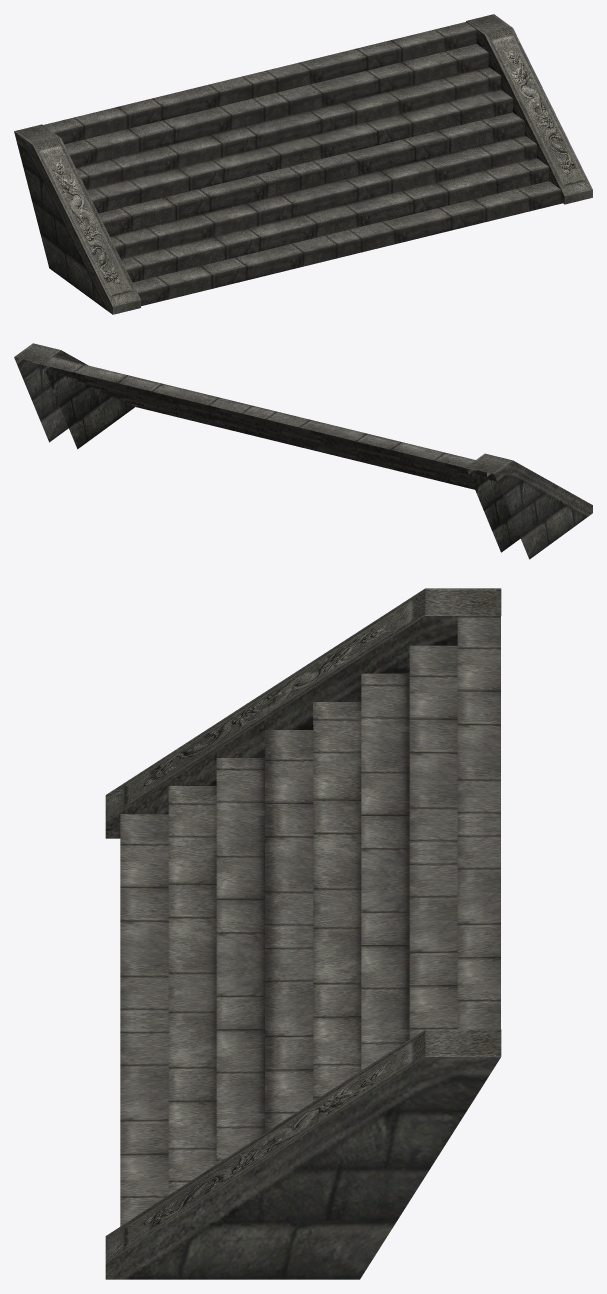
Rendered from stadium_00_staire.fbx.
3 views of the same model, one above another, from view 1: azimuth 30°, elevation 25°; view 2: azimuth 150°, elevation 25°; view 3: azimuth 270°, elevation 25° (orthographic). The views are drawn at different scales.
Visible parts, largest first — view 1: stadium_staire; view 2: stadium_staire; view 3: stadium_staire.
Part boxes in pixels (bbox=[...]): stadium_staire: bbox=[14, 14, 592, 314]; stadium_staire: bbox=[14, 343, 592, 559]; stadium_staire: bbox=[105, 588, 501, 1279].
Bounding box in the file's own units: 17.2 × 3.87 × 6.14.
